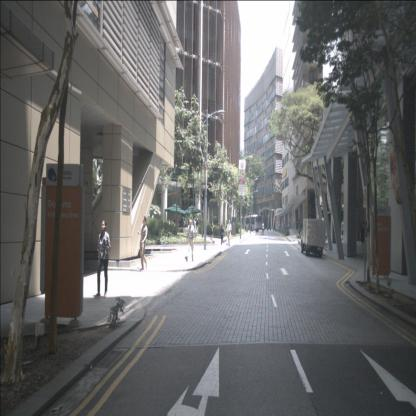human-pedestrian-adult: (94, 220, 111, 298), (137, 216, 148, 270), (185, 219, 195, 262), (360, 222, 366, 251), (226, 220, 232, 246), (340, 219, 346, 240), (192, 215, 197, 238), (210, 220, 215, 241), (219, 225, 224, 245), (195, 217, 198, 239), (298, 222, 301, 239), (261, 221, 264, 236)
vehicle-bus-rigid: (244, 215, 262, 232)
vehicle-truck: (300, 218, 326, 258)
